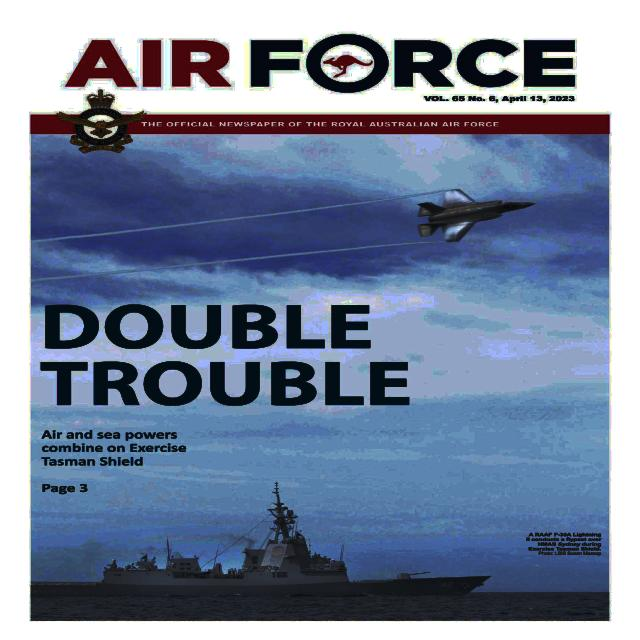Aircraft: (417, 189, 536, 243)
